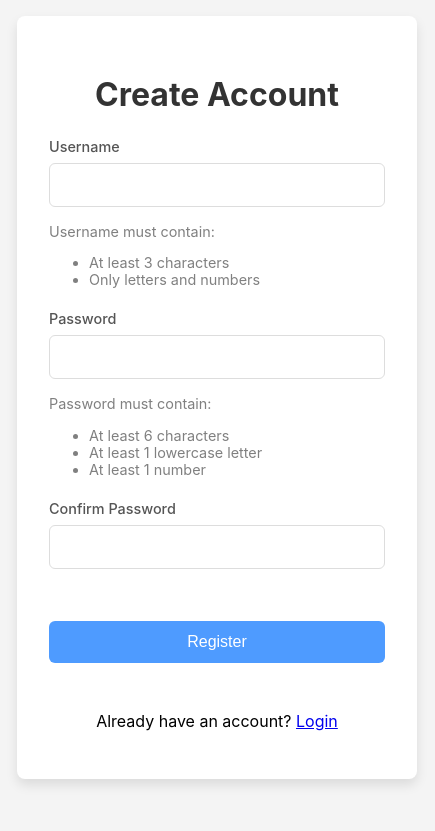
Register page tests › should show error if username is too long
Type "usernameThatIsTooLong" into the field labelled "Username" at (217, 184), box [49,162,385,206]
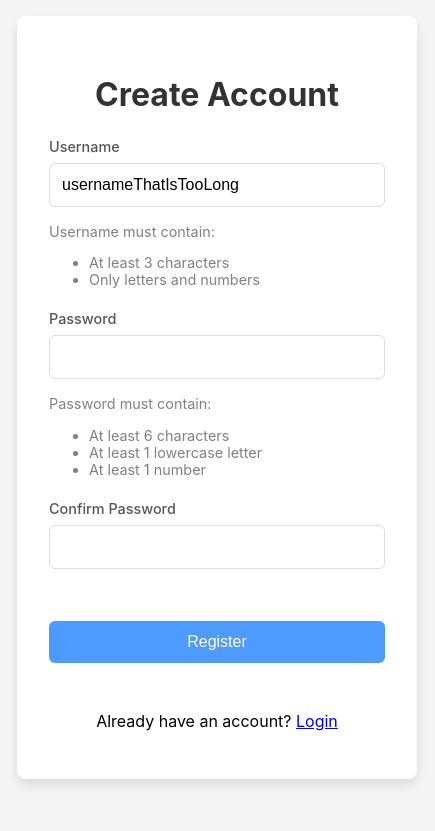
Type "Password123!" into the password field with test id "password" at (217, 357), box [49,335,385,379]
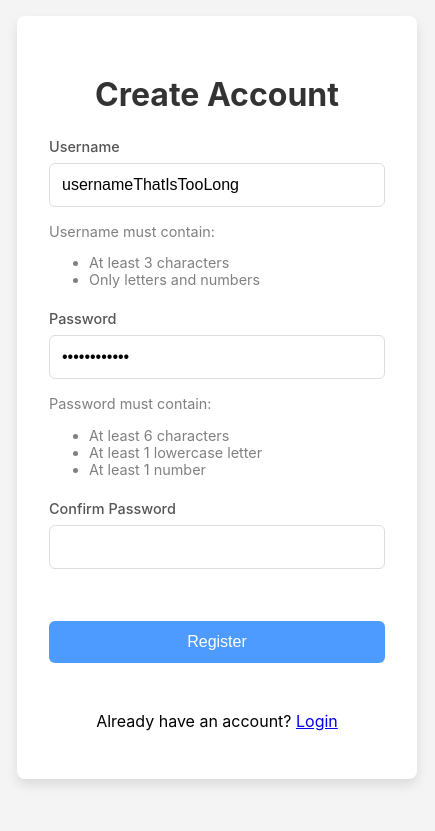
Type "Password123!" into the password field labelled "Confirm Password" at (217, 547), box [49,525,385,569]
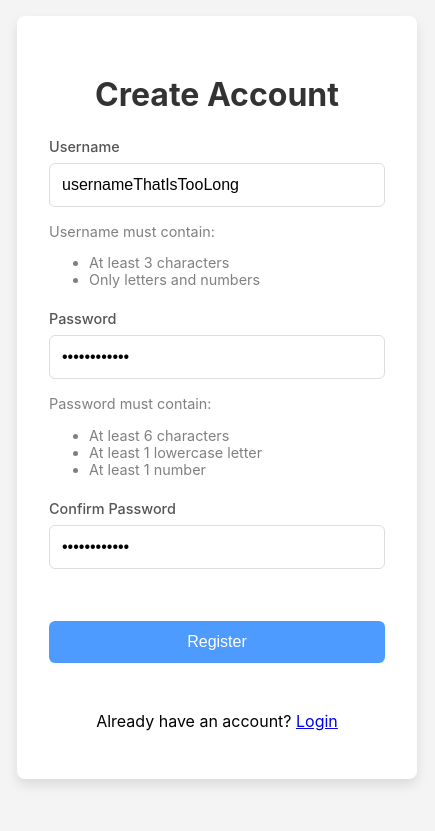
Click the button "Register" at (217, 642), box [49,621,385,663]
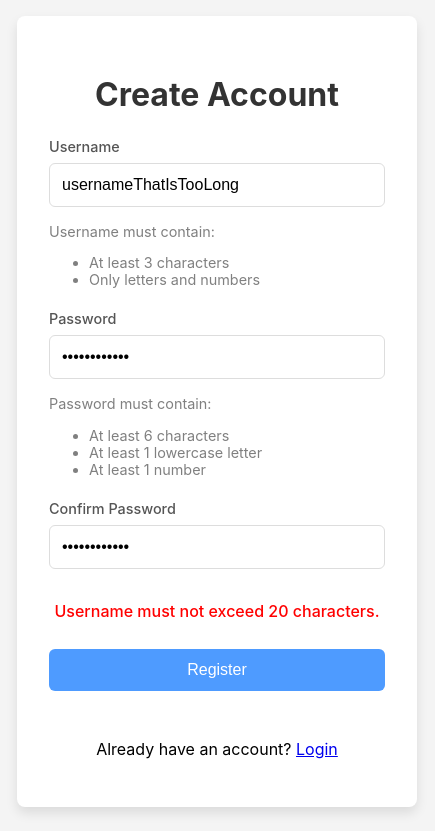
Now the text "Username must not exceed 20 characters." is shown, box [49,601,385,621]
